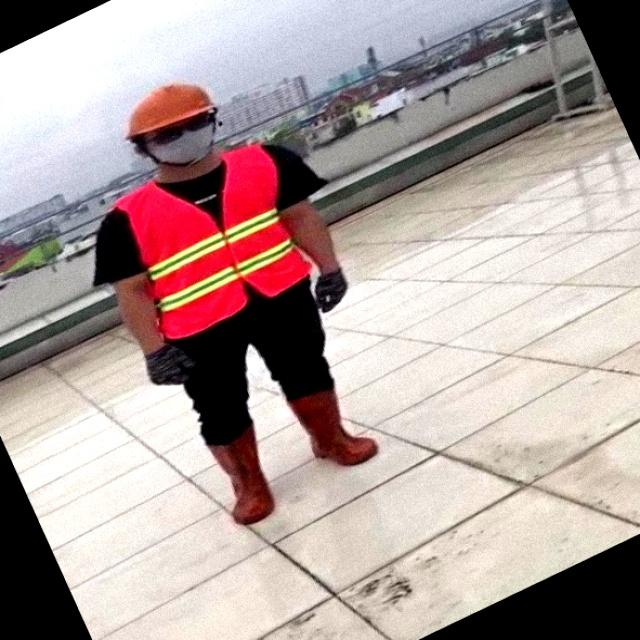helmet: (109, 79, 228, 130)
safety_vest: (118, 146, 314, 332)
